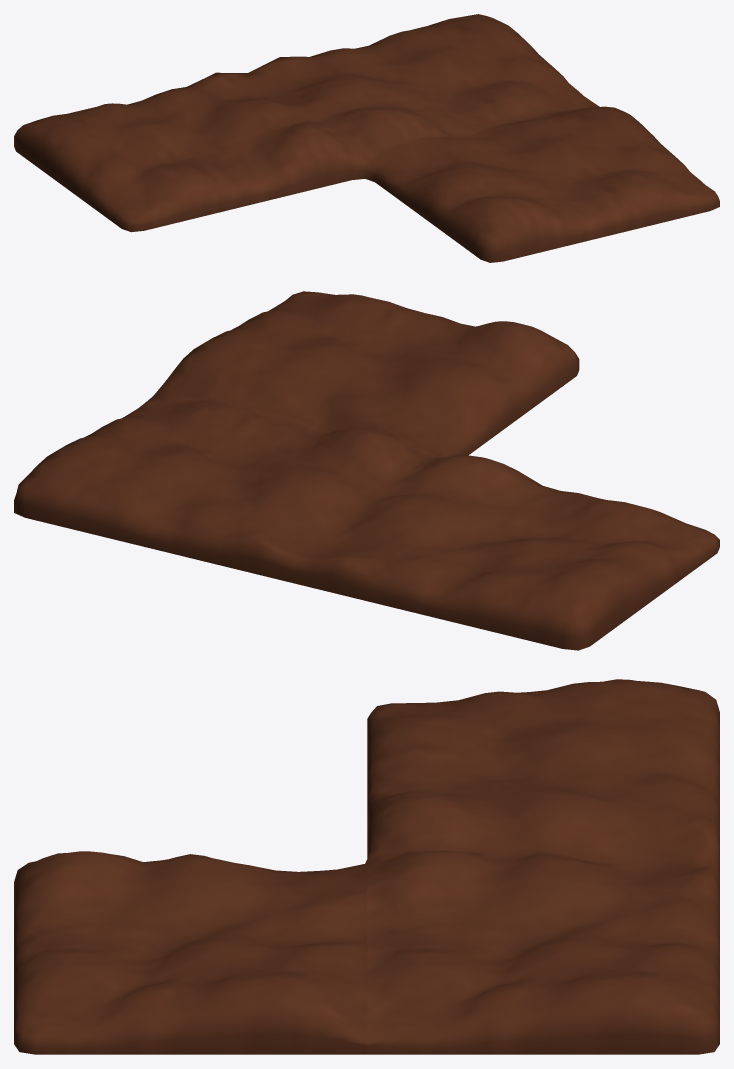
Rendered from Soil Three other way.fbx.
3 renders of one model, top to bottom at view 1: azimuth 30°, elevation 25°; view 2: azimuth 150°, elevation 25°; view 3: azimuth 270°, elevation 25°, orthographic. The views are drawn at different scales.
Visible parts, largest first — view 1: polySurface2; view 2: polySurface2; view 3: polySurface2.
Boxes of the visible parts, left/top/right/bottom form: polySurface2: left=14, top=14, right=719, bottom=262; polySurface2: left=14, top=291, right=719, bottom=650; polySurface2: left=14, top=679, right=719, bottom=1054.
Size of the model in its own units: 17.93 by 1.43 by 15.84.
